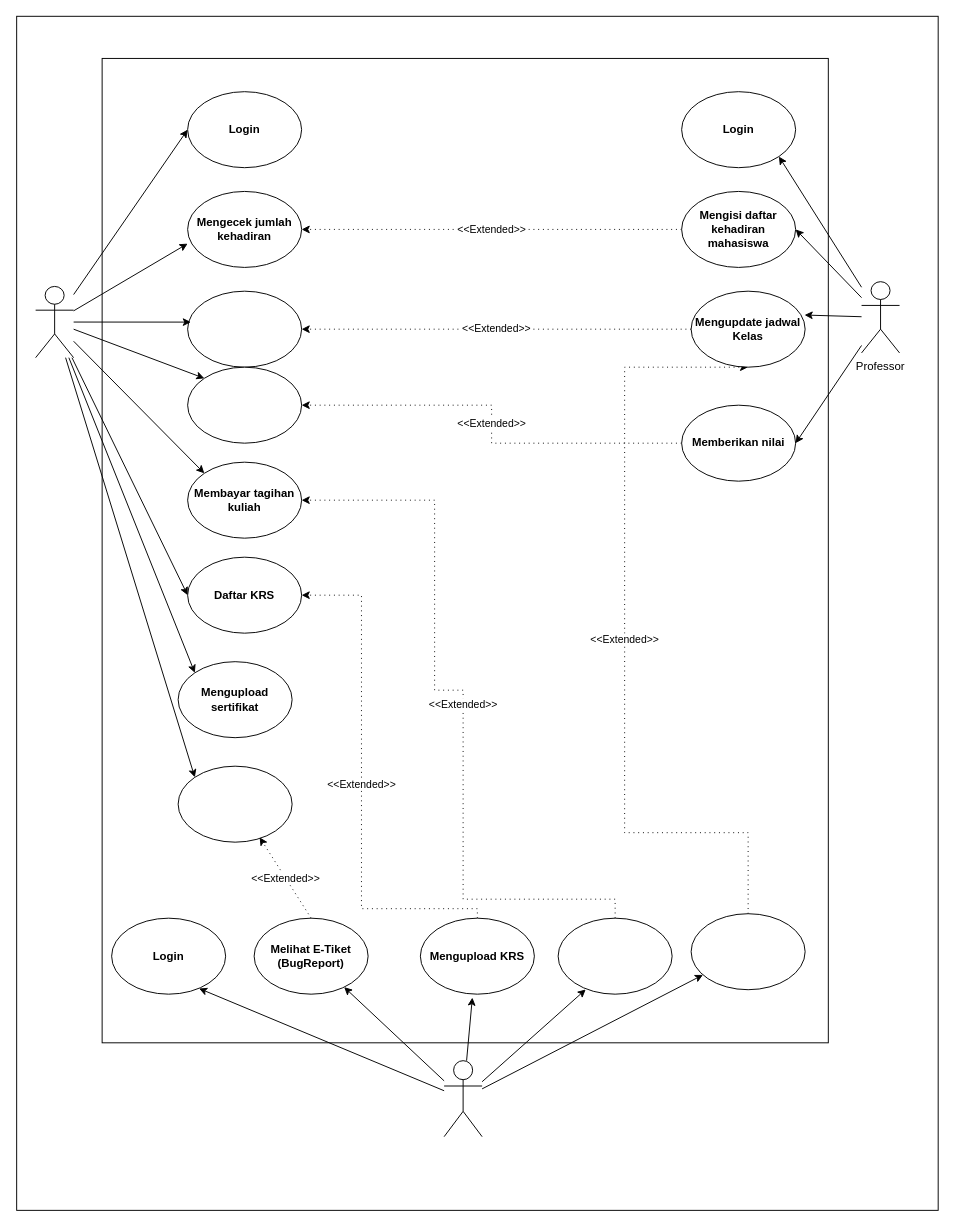
Image size: 955x1227. Some labels were removed from this diagram. The shapes that lost their labels are listed below. From the top down, each one's box as (x1, y1, x2, y2) in pixels, then its label:
(35, 285, 74, 358): Student
(187, 290, 302, 367): Cek jadwal Kelas
(187, 366, 302, 443): Mengecek nilai
(177, 765, 292, 842): Membuat E-Tiket (BugReport )
(557, 917, 672, 994): Mengkonfirmasi transaksi
(690, 913, 805, 990): Upload jadwal kelas
(443, 1060, 482, 1137): Operator
